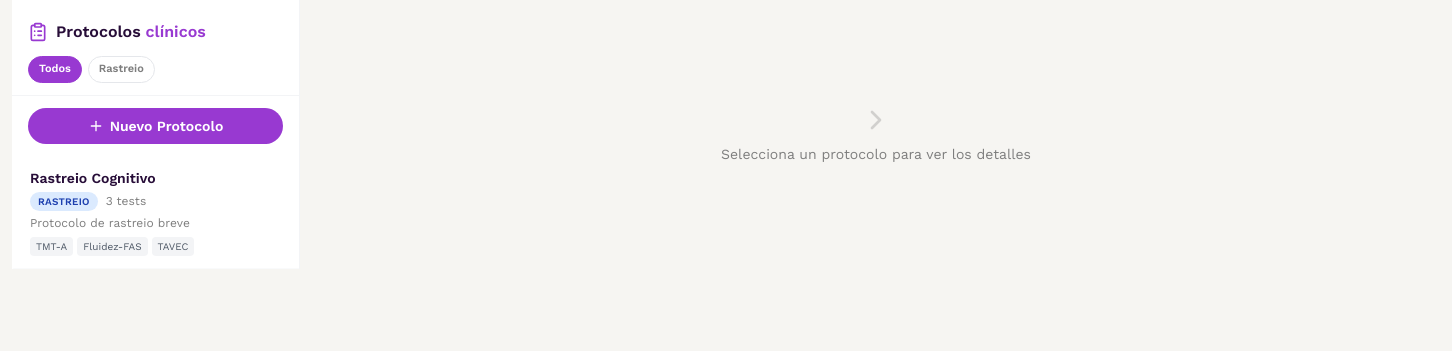
Test: ProtocolLibrary › shows delete button in detail panel when can_manage_protocols is true
Click the text "Rastreio Cognitivo".
click(93, 178)  # box [30,170,156,186]
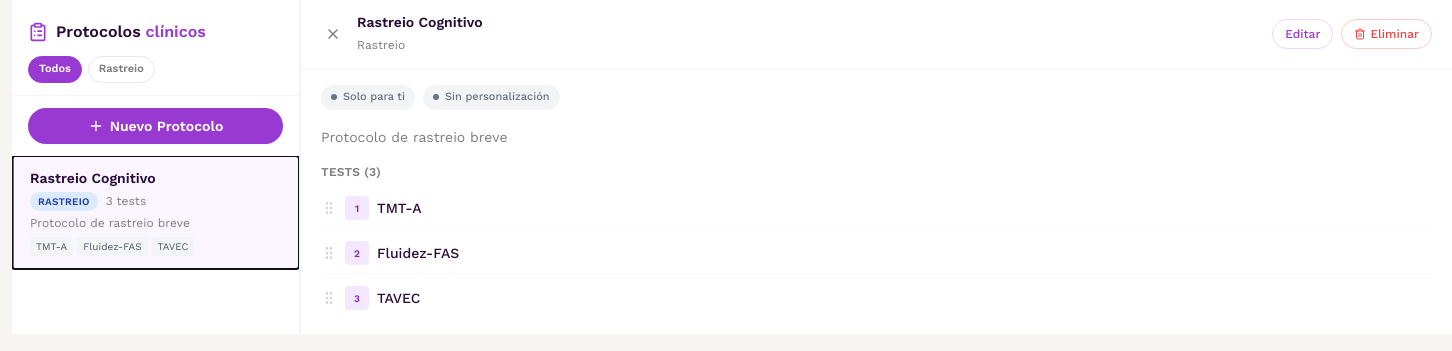
Check: the button "Eliminar" is shown, box [1341,19,1432,49]
